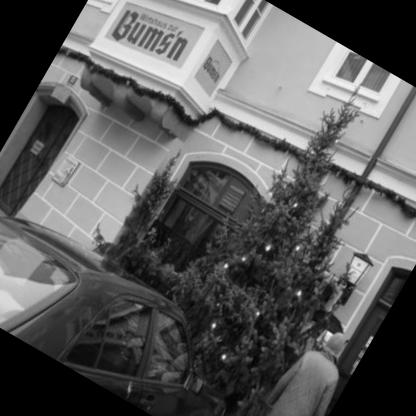car: (1, 171, 293, 416)
